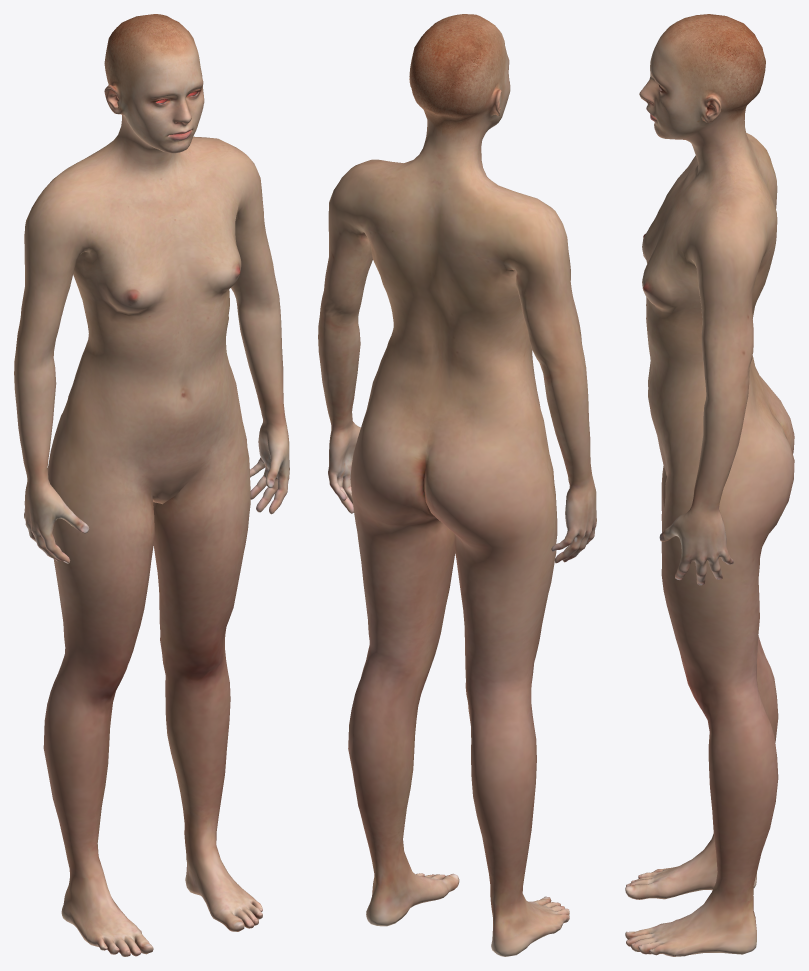
File: body.gltf
The picture shows the model from 3 angles, left to right: view 1: azimuth 30°, elevation 25°; view 2: azimuth 150°, elevation 25°; view 3: azimuth 270°, elevation 25°; orthographic projection.
Parts seen in each view (by area): view 1: body; view 2: body; view 3: body.
Boxes of the visible parts, bbox=[...] form: body: bbox=[14, 14, 289, 956]; body: bbox=[318, 14, 596, 956]; body: bbox=[625, 14, 794, 956].
Size of the model in its own units: 0.4917 by 1.61 by 0.2738.
1 material, 1 textured.
